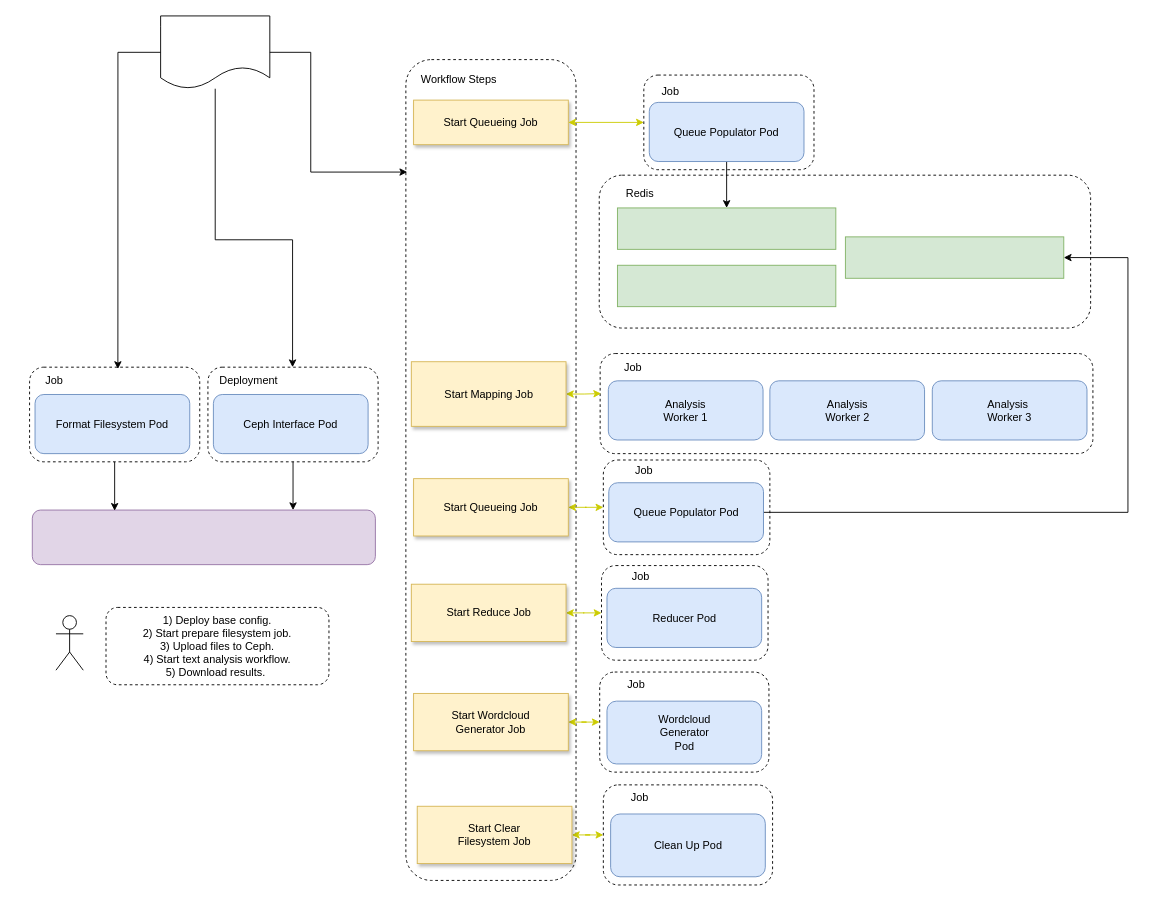
Some shapes in this 1151 by 901 pixel diagram are drawn without their labels. Here are the shapes that lost their labels. From the top down, the centre of each, then its label:
[215,52]: Kubernetes API server
[726,228]: Dispatch Queue Master
[954,257]: Finished Queue Master
[726,285]: Lease Queue
[203,537]: Ceph Shared File System
[69,642]: Actor
